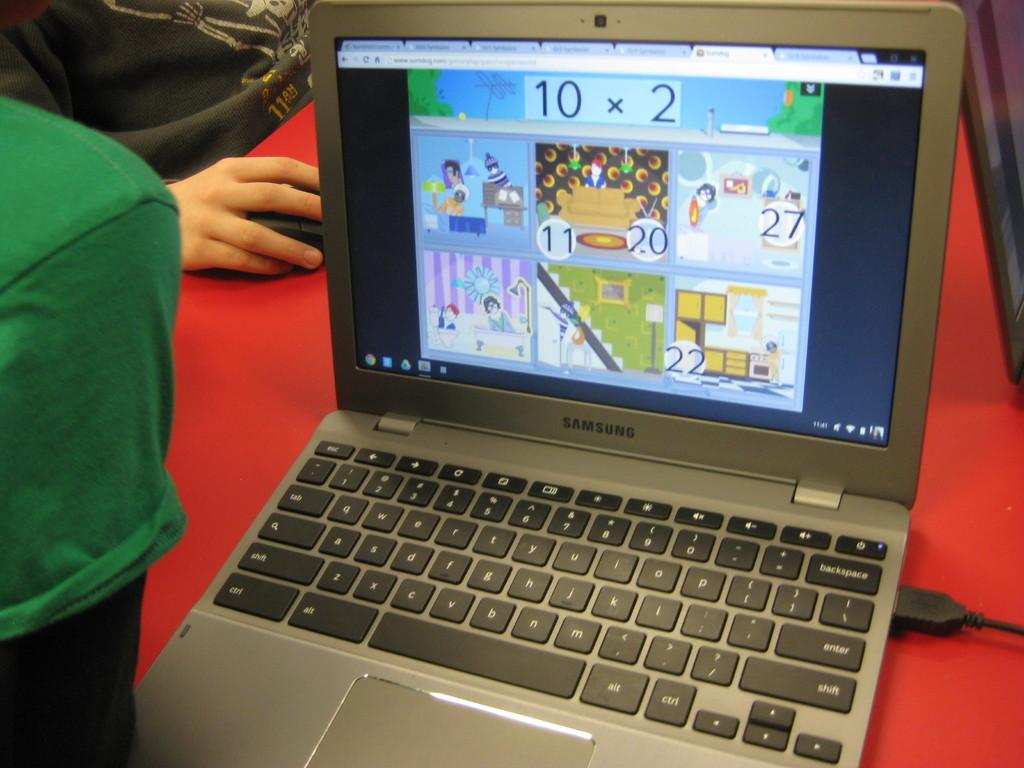Laptop: (156, 0, 960, 768)
